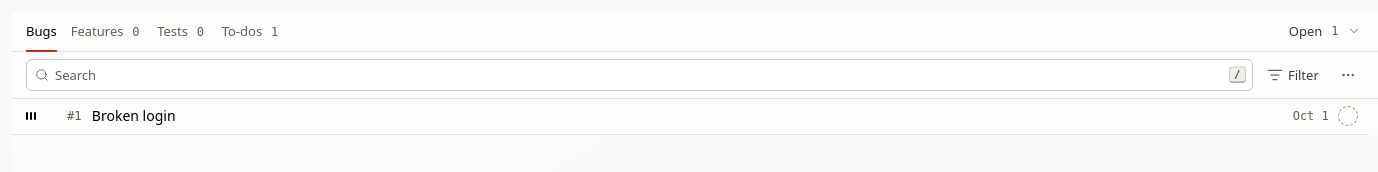
Test: BugList › has a To-dos tab that shows only to-dos
Expected: the option "#5 Write the README" is not shown
Click the tab "To-dos 1". click: point(252, 32)
box: [222,12,282,51]
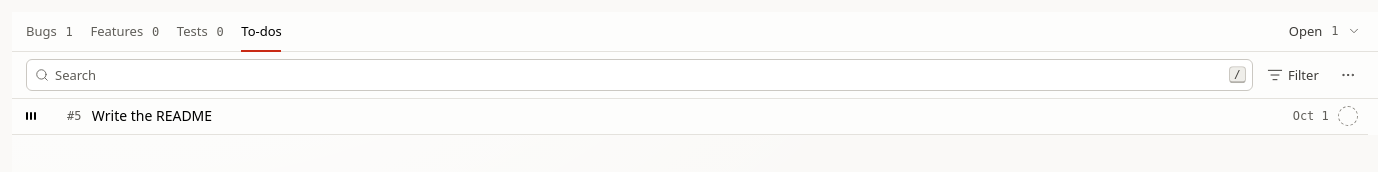
Expected: the search field named "Search to-dos" is shown, [26,59,1253,91]
Expected: the option "#5 Write the README Oct 1" is shown, [12,99,1368,135]
Expected: the option "#1 Broken login" is gone
